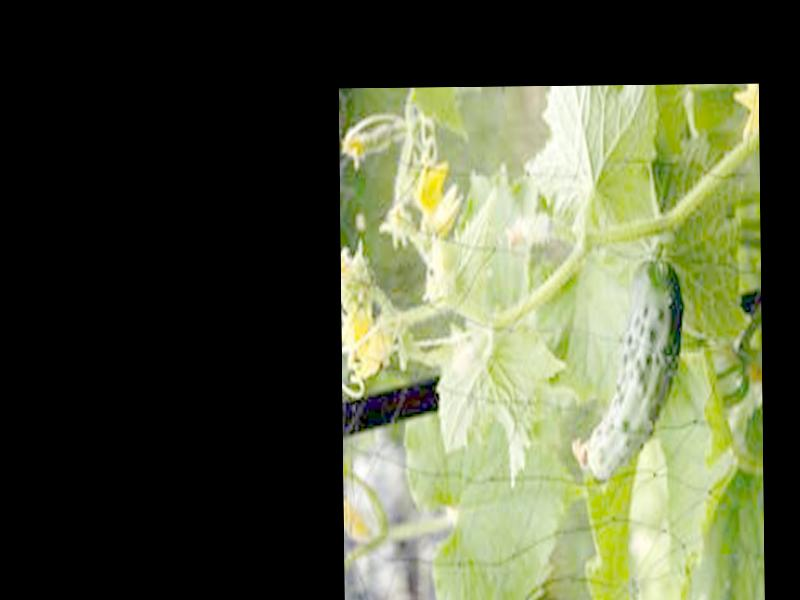Cucumber: (568, 254, 684, 483)
